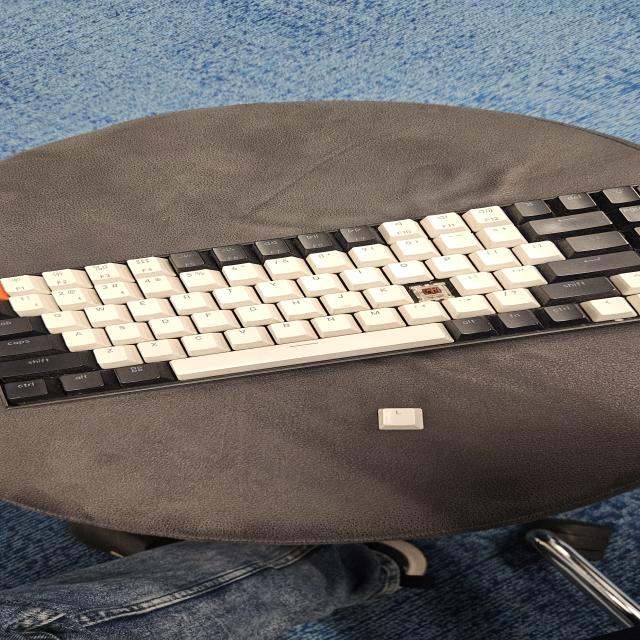C: (417, 281, 449, 298)
